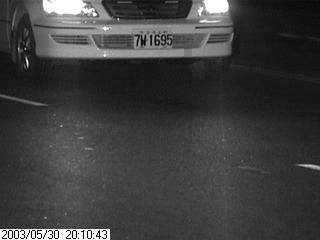plate: (131, 27, 175, 51)
